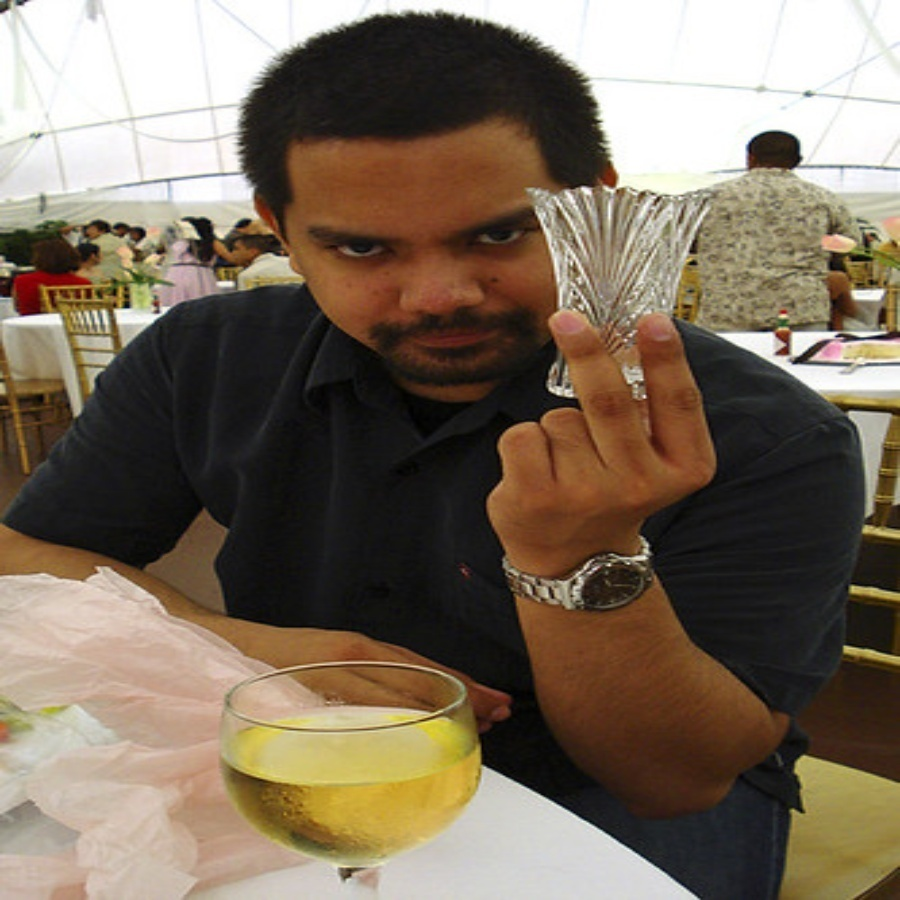whiskey: (215, 657, 483, 888), (524, 185, 711, 424)
